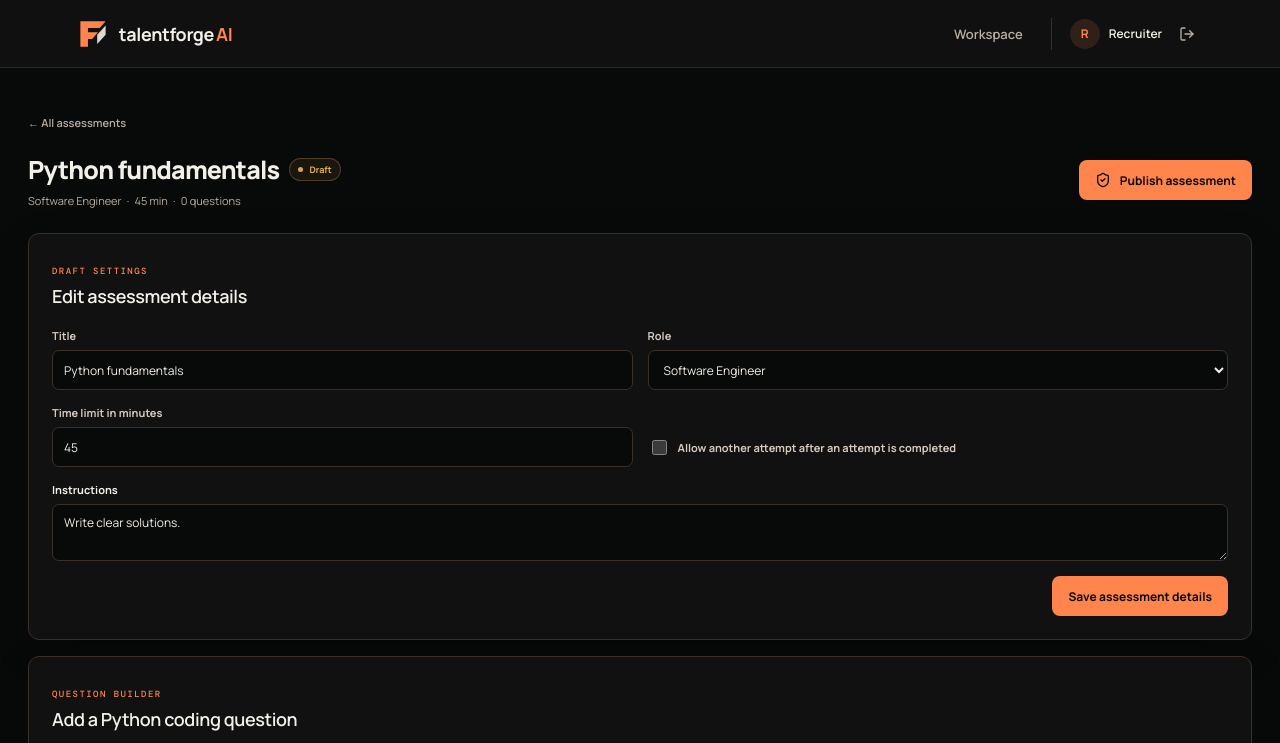
Test: recruiter assessment CRUD › updates assessment details through the existing PATCH endpoint
The image size is (1280, 743).
Step 1. Replace the text in the field labelled "Title" with "Updated title" → x=342, y=370, box [52,350,632,390]
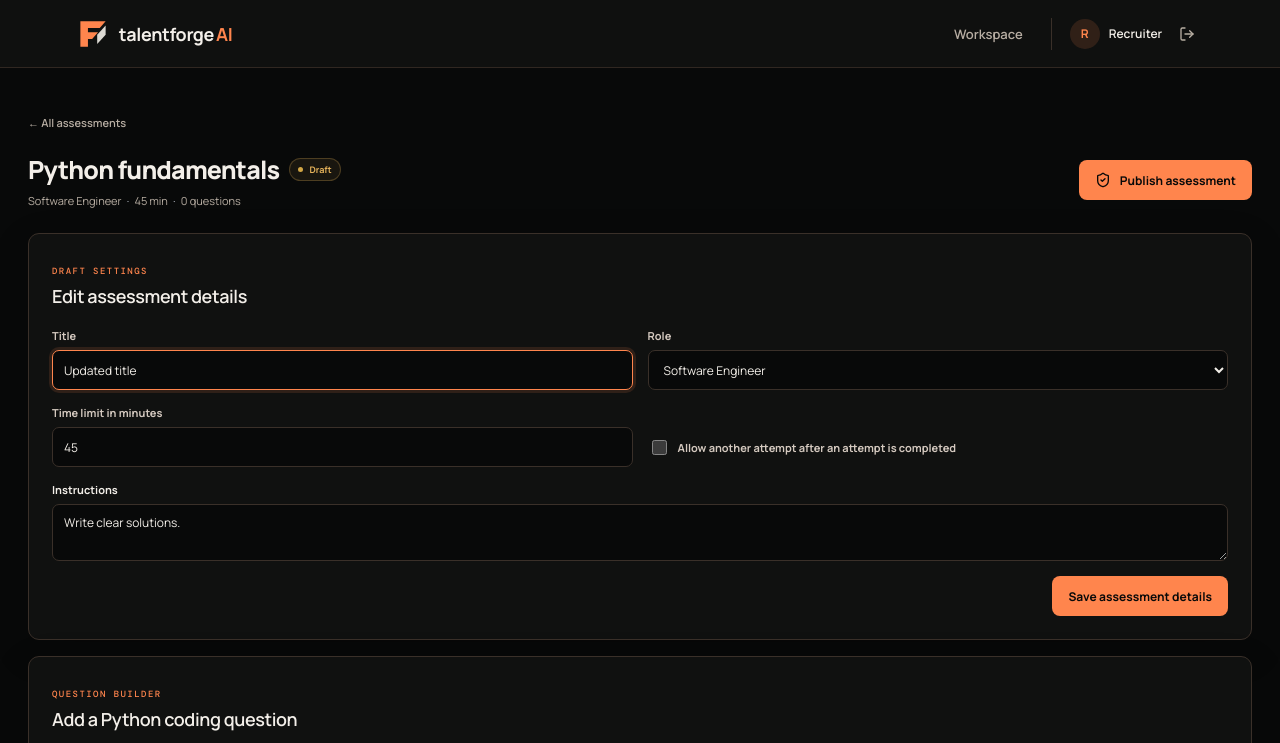
Step 2. Select "Software Engineering Intern" in the dropdown labelled "Role" → x=938, y=370, box [648,350,1228,390]
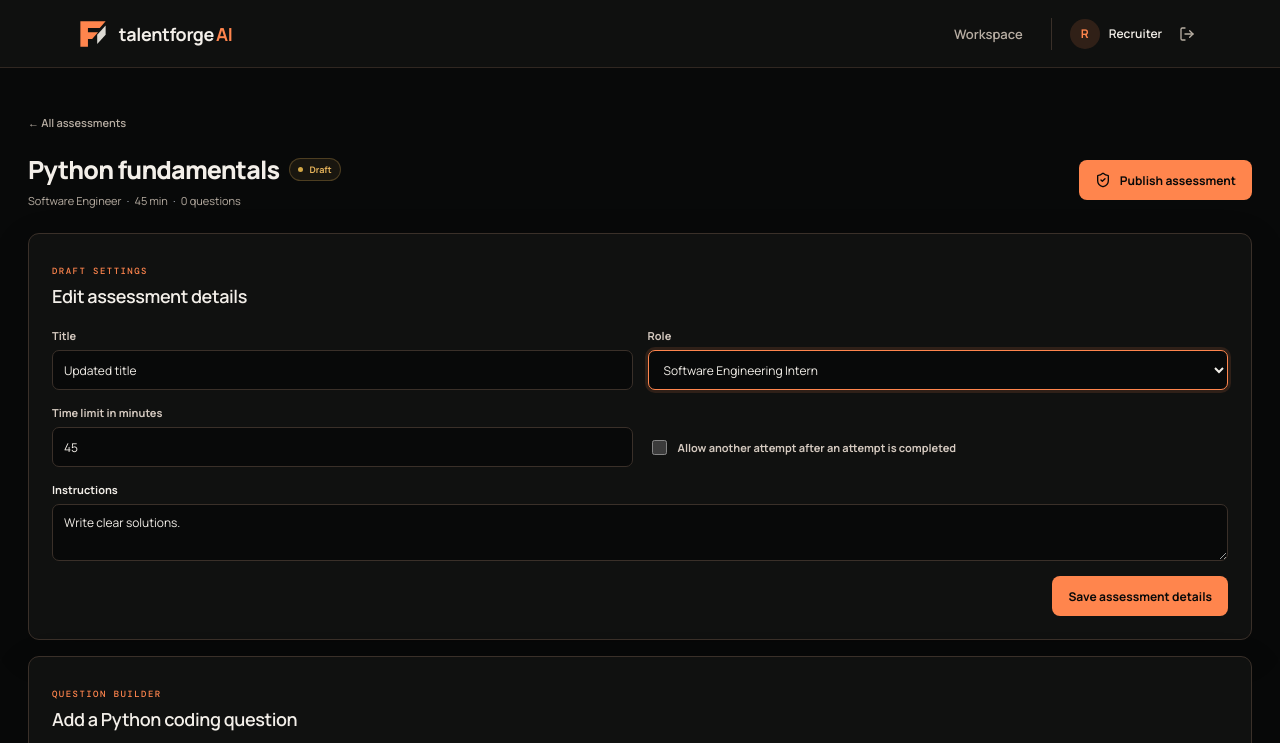
Step 3. Replace the text in the number field labelled "Time limit in minutes" with "90" → x=342, y=447, box [52,427,632,467]
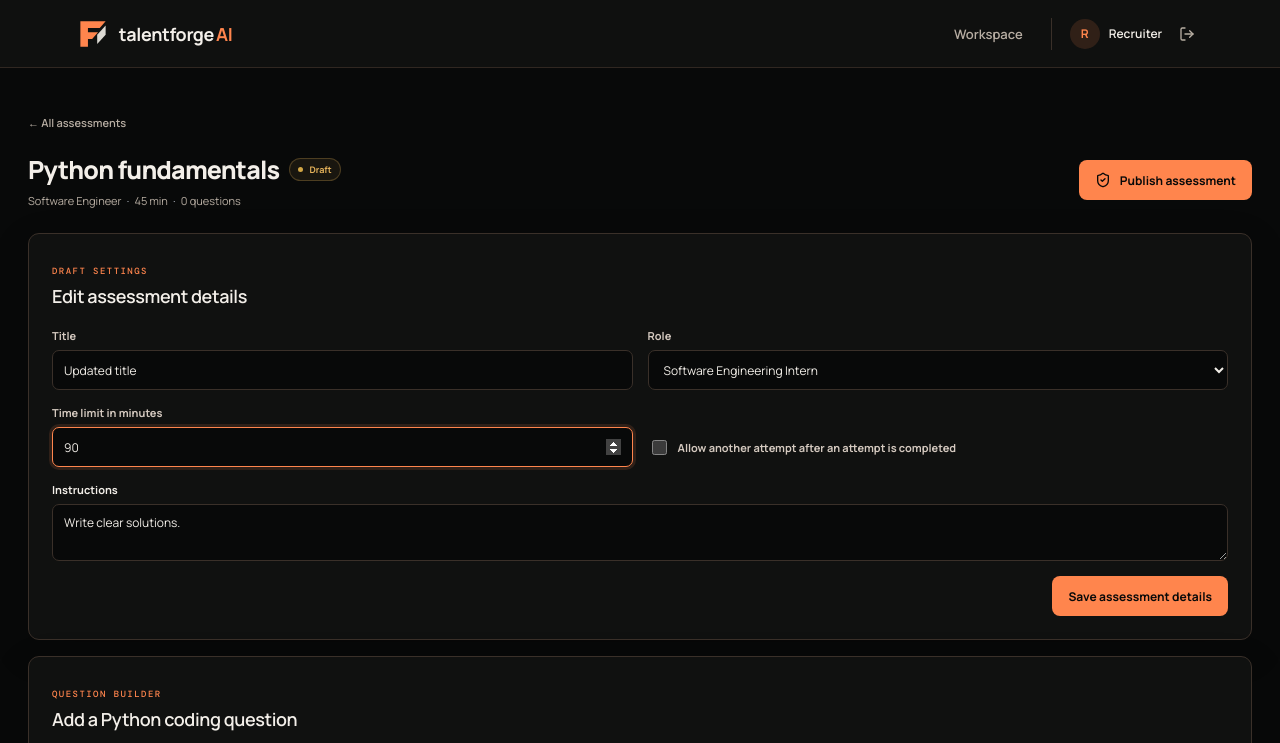
Step 4. Replace the text in the text box labelled "Instructions" with "Updated instructions." → x=640, y=533, box [52,504,1228,561]
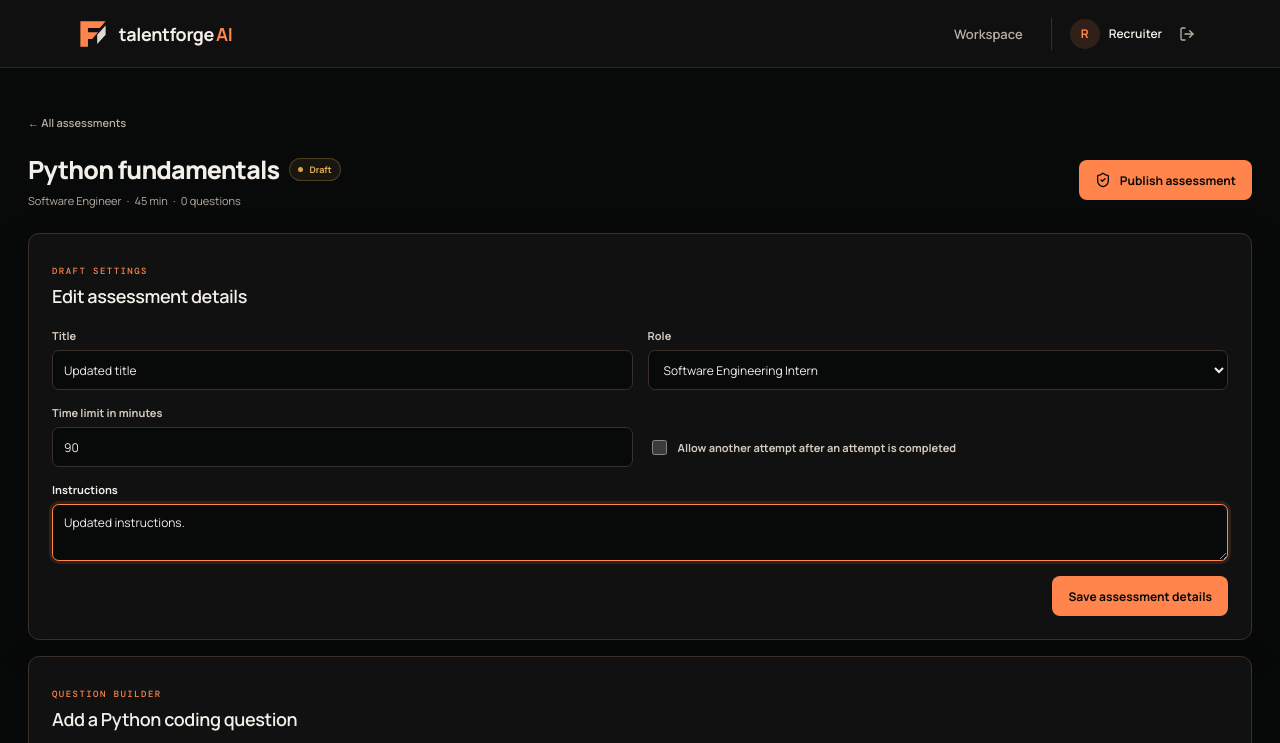
Step 5. Click the button "Save assessment details" → x=1140, y=596, box [1052,576,1228,616]
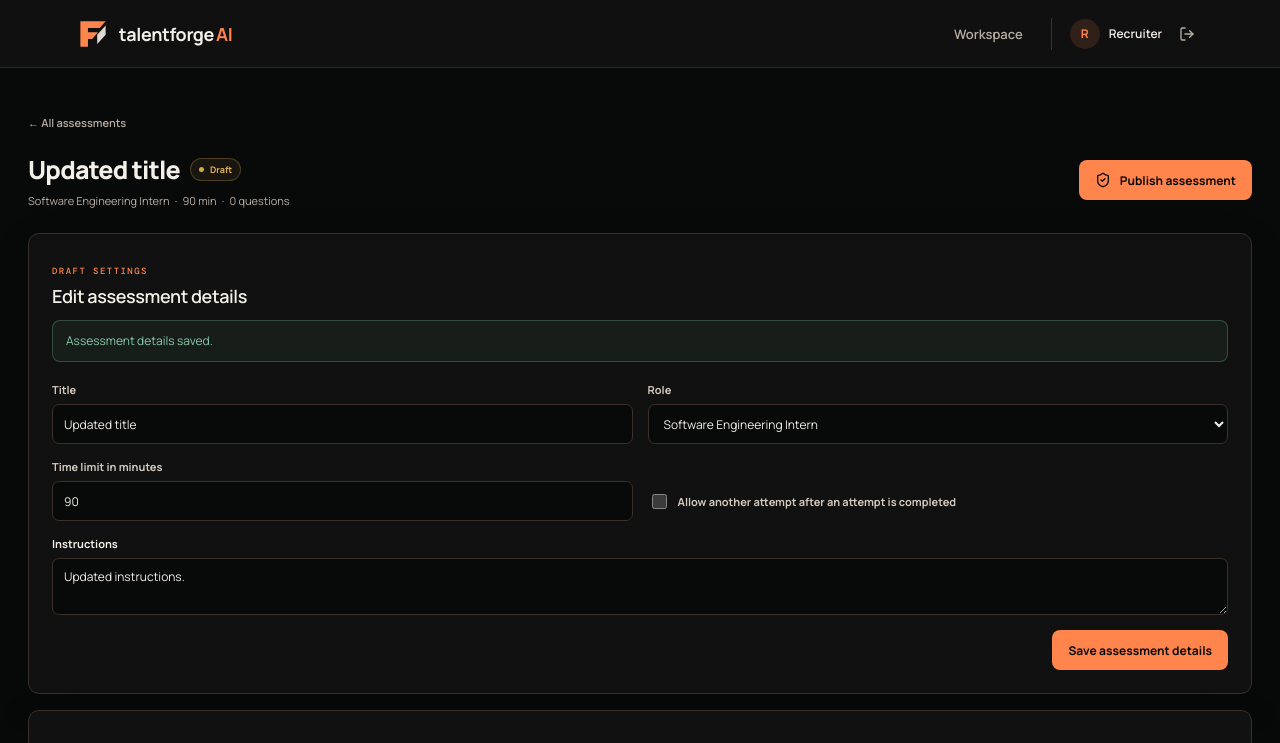
Expected: the heading "Updated title" is shown, [28,152,180,187]
